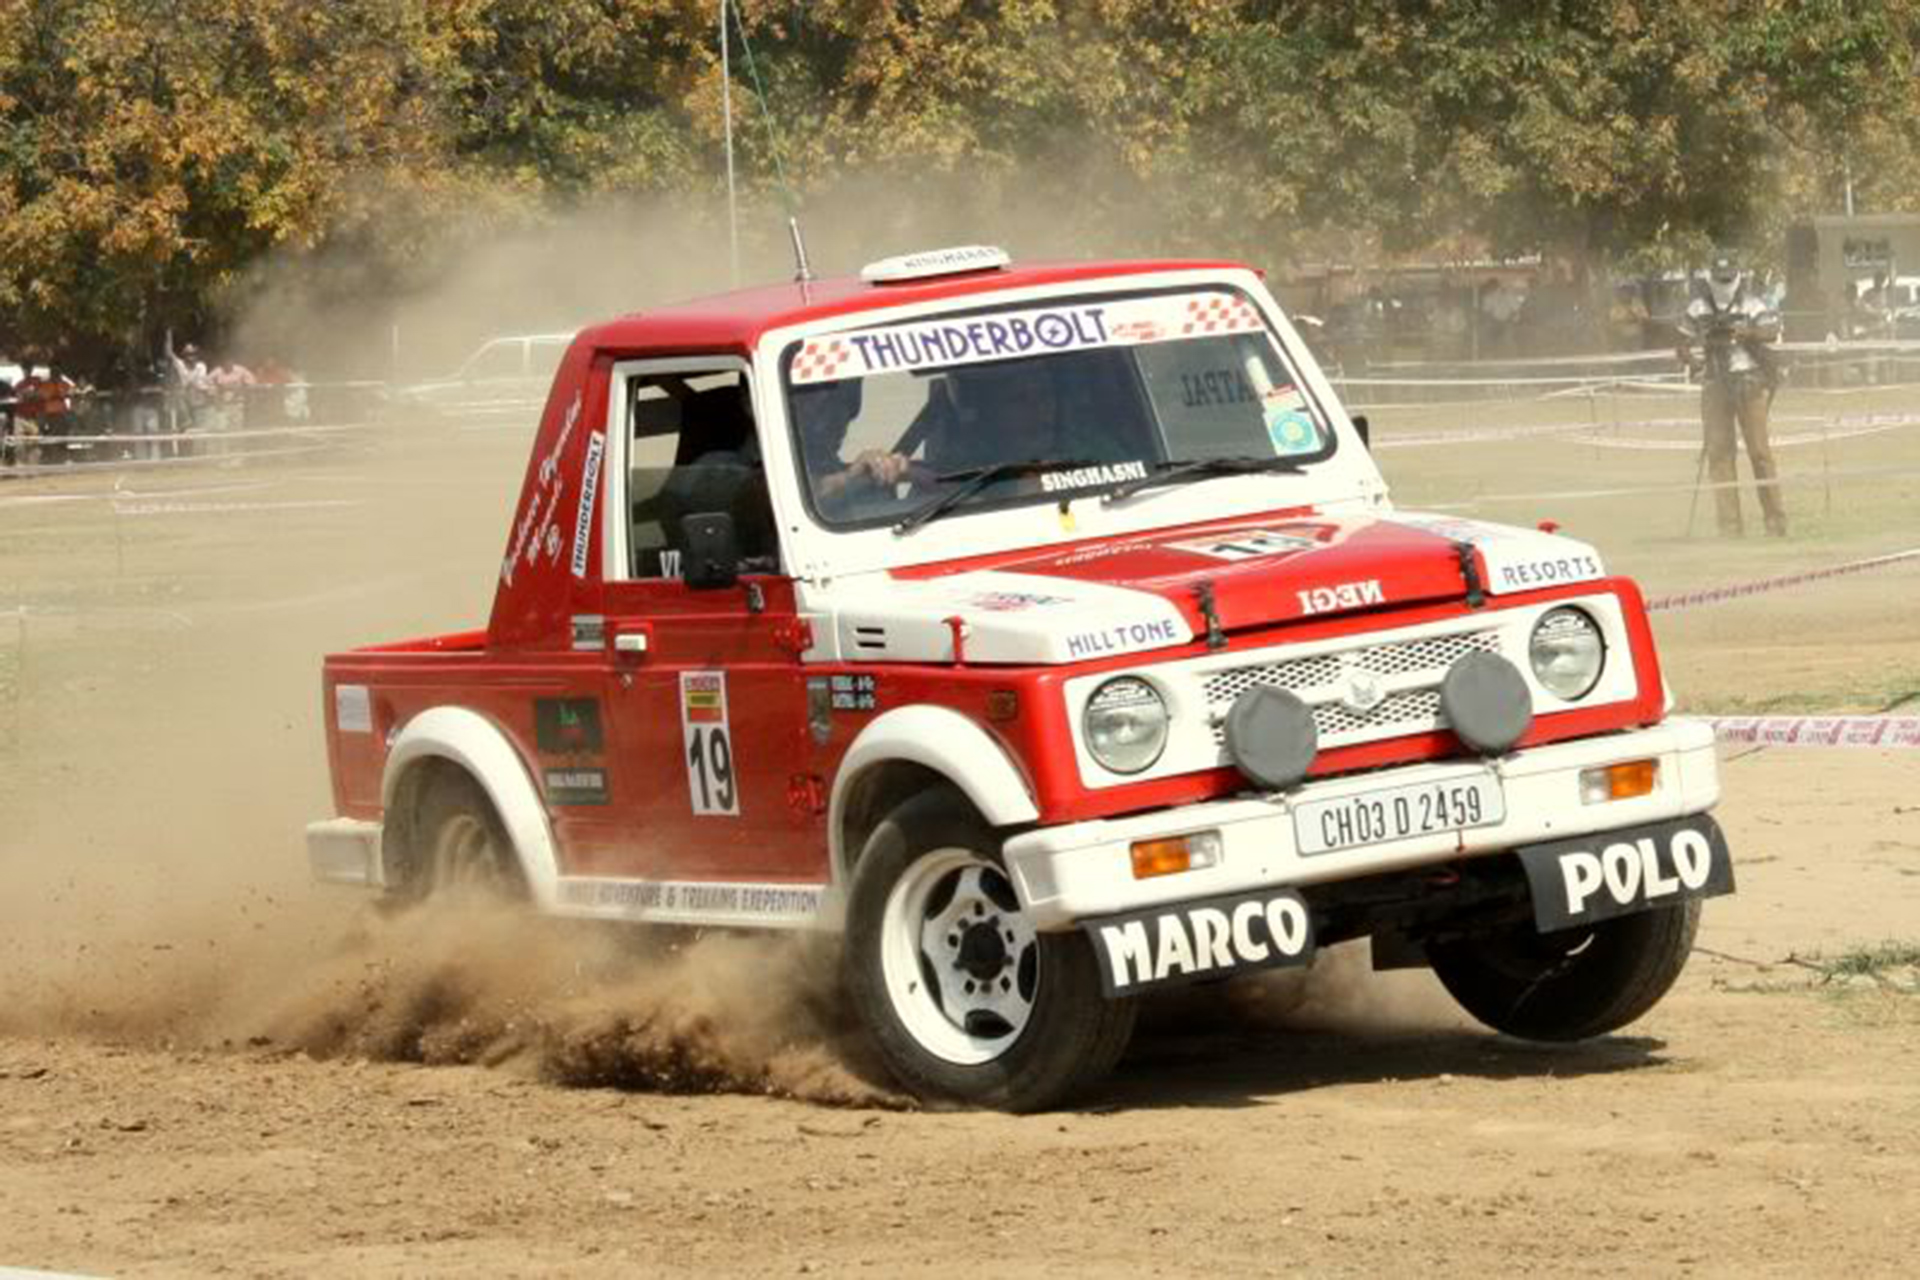number_plate: (1278, 767, 1519, 859)
